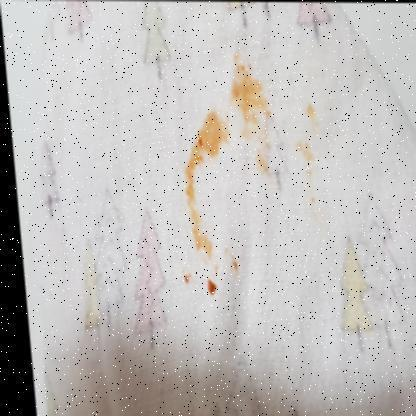kimchi: (164, 162, 216, 254), (228, 62, 276, 143), (182, 109, 224, 158), (296, 140, 322, 204), (203, 280, 226, 306), (253, 150, 271, 178), (178, 272, 195, 292), (229, 257, 243, 273), (306, 104, 315, 119)
